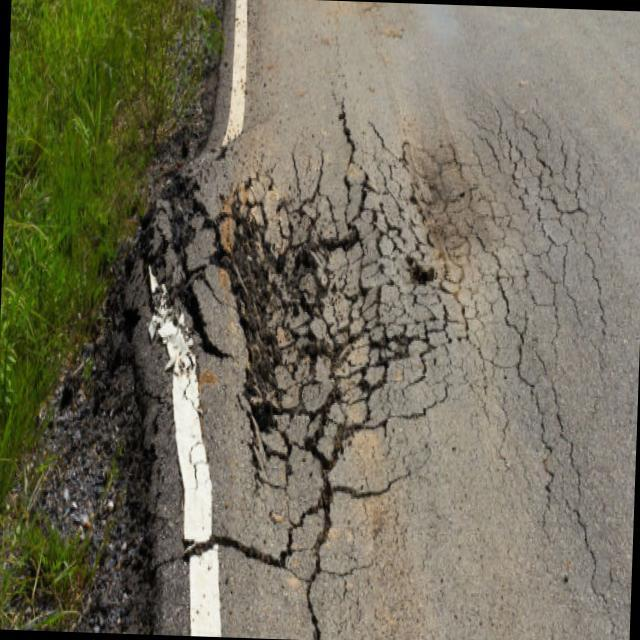Pothole: (218, 152, 400, 534)
